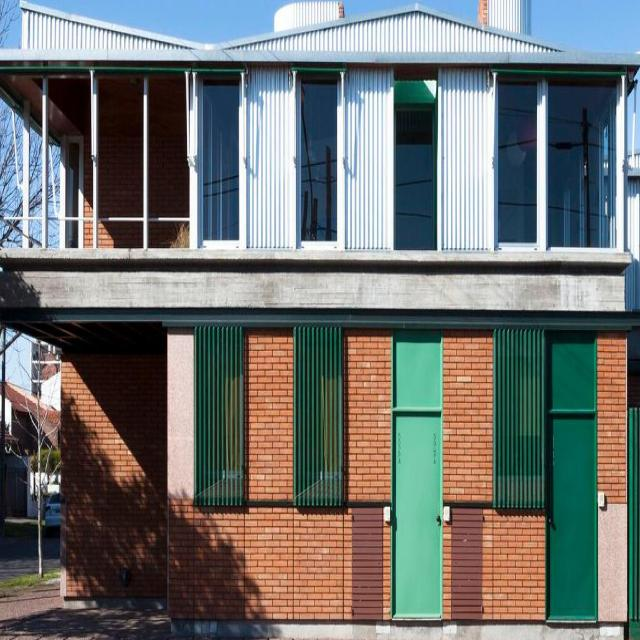door: (391, 336, 444, 627), (546, 337, 598, 627)
window: (495, 80, 617, 253), (393, 77, 439, 247), (295, 73, 341, 243), (199, 77, 245, 247), (64, 136, 87, 250)
